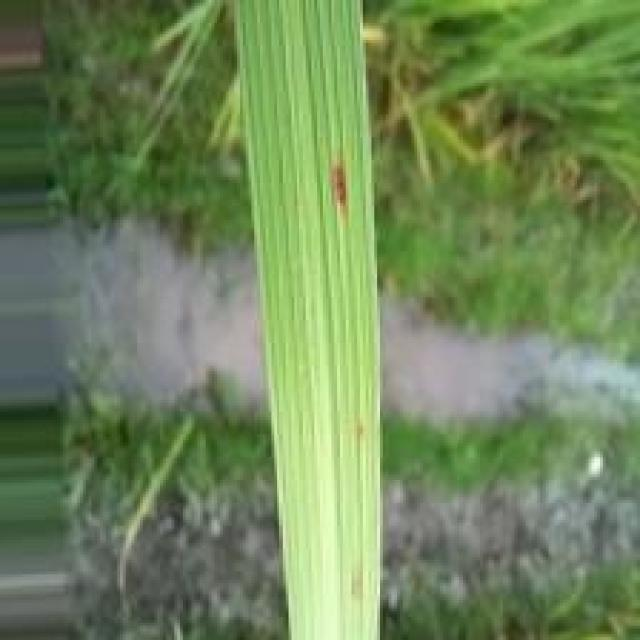Brown_Spot: (331, 166, 348, 208)
